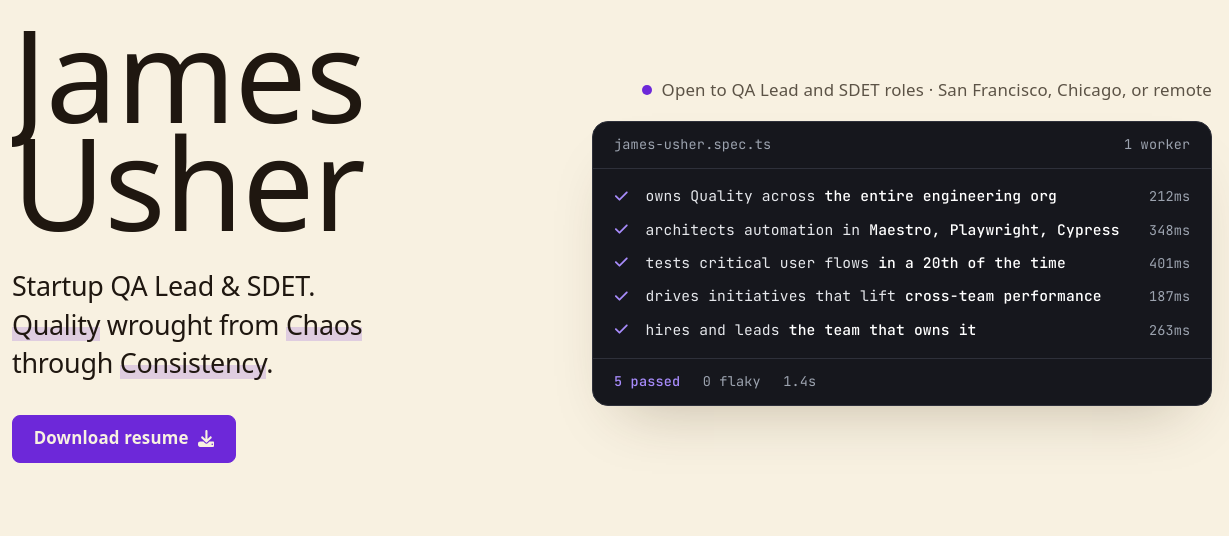
Hero › keeps the Pick locator switch hidden until a letter of the name is clicked, and can hide it again
Expected: the switch labelled "Pick locator" is not shown
What coordinates should you click on to do the following:
click the text "J"
I would click on:
 (29, 74)
Its box is [12, 20, 46, 128].
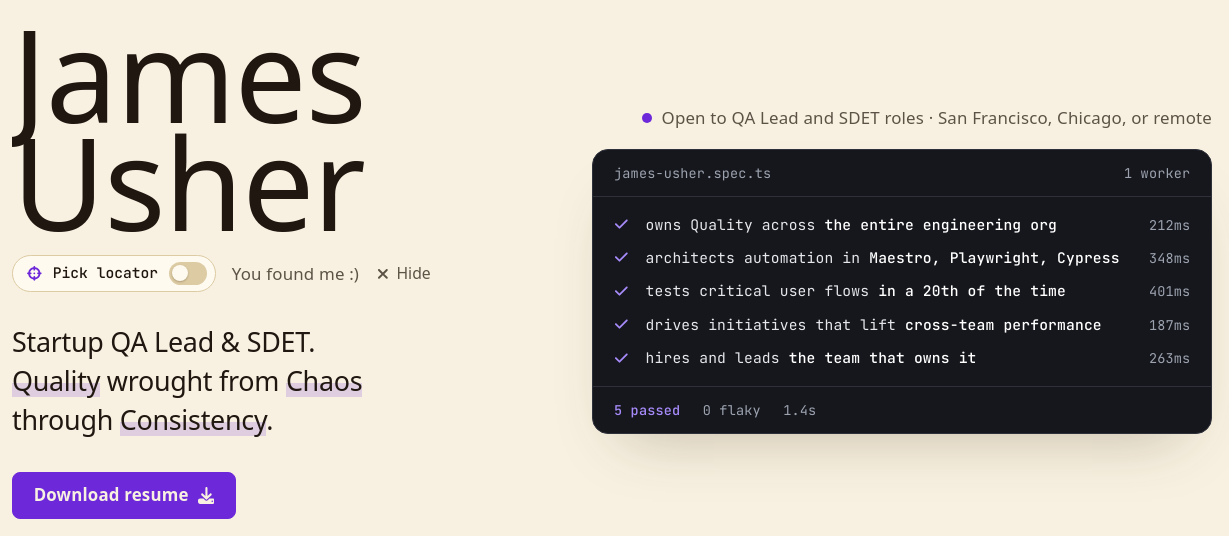
What coordinates should you click on to do the following:
click the switch labelled "Pick locator"
I would click on:
 (114, 273)
Its box is [12, 255, 216, 292].
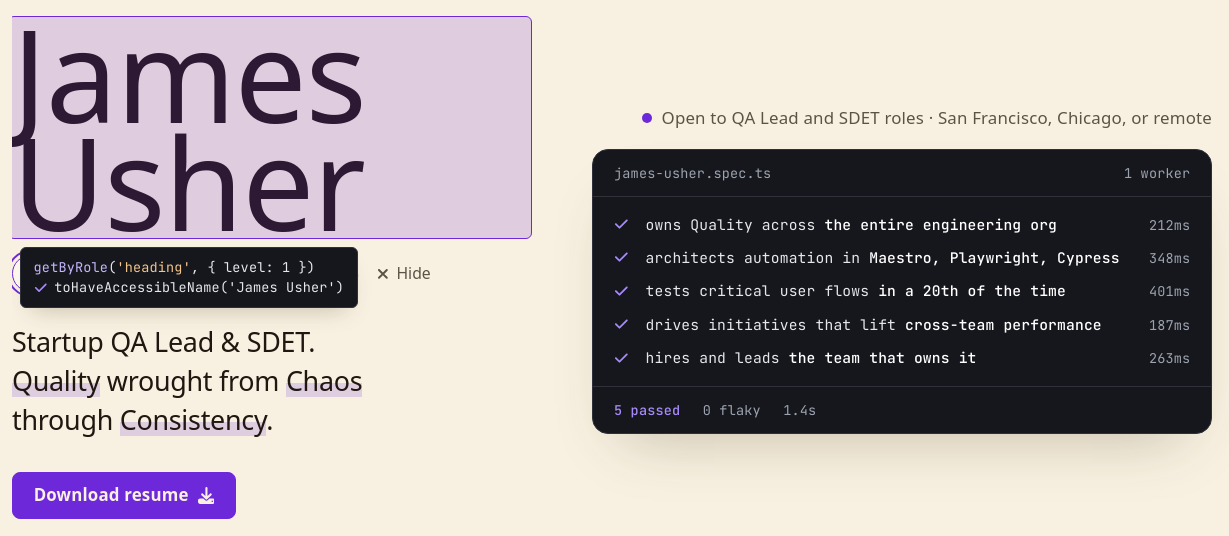
What coordinates should you click on to do the following:
click the button with aria-label "Hide the locator picker"
I would click on:
 (403, 273)
Its box is [375, 261, 431, 286].
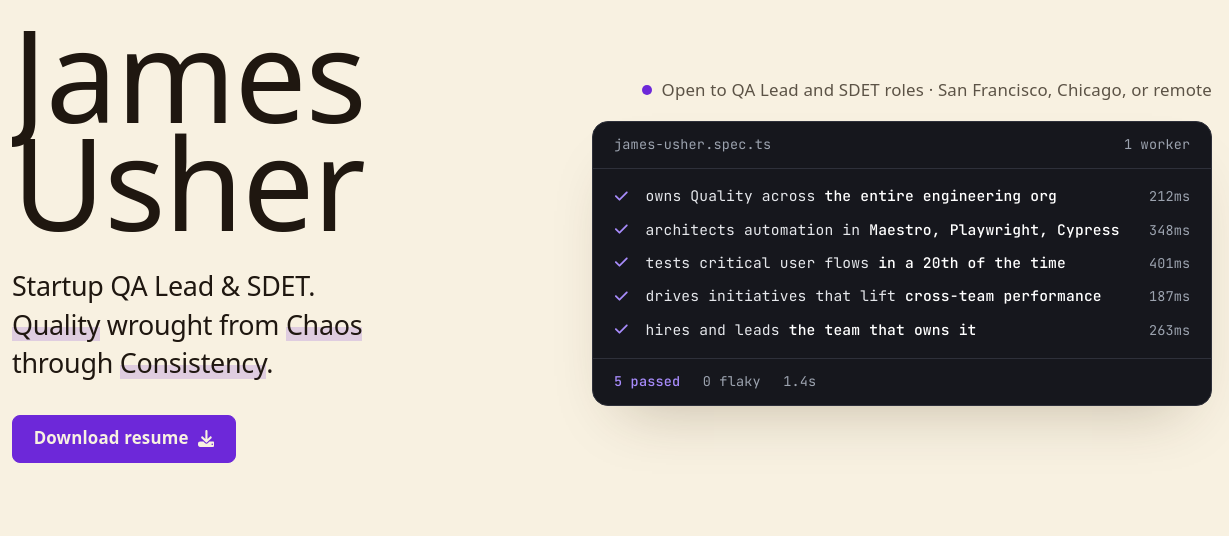
Now the switch labelled "Pick locator" is gone
